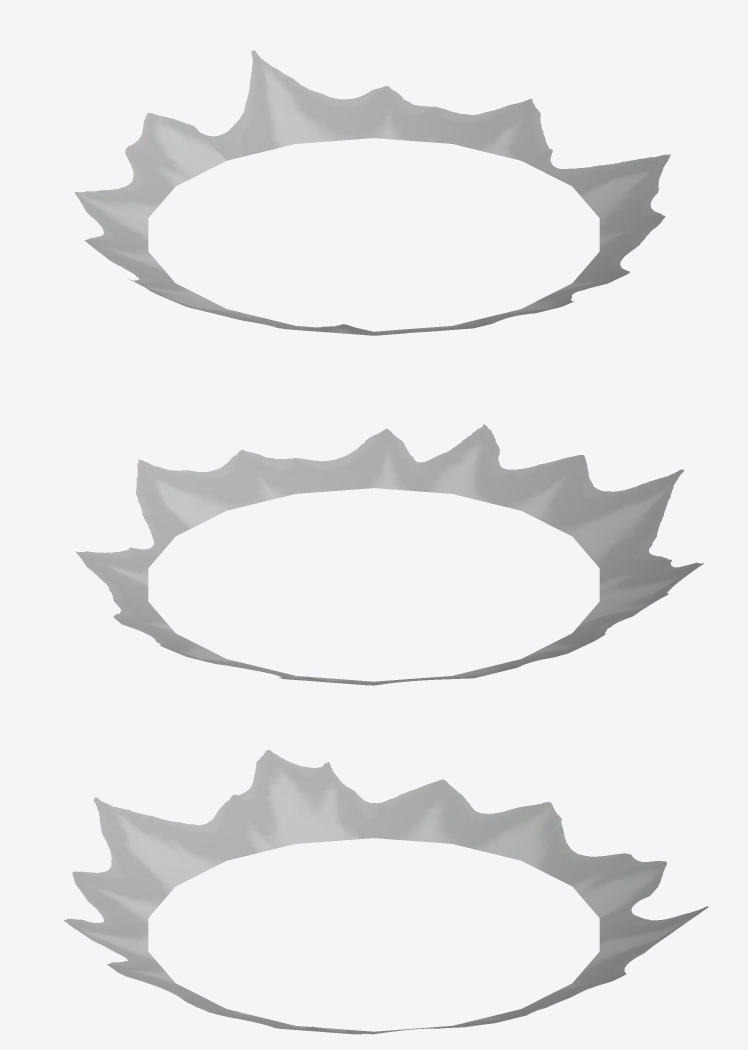
3 views of the same model, one above another, from view 1: azimuth 30°, elevation 25°; view 2: azimuth 150°, elevation 25°; view 3: azimuth 270°, elevation 25° (orthographic).
Parts seen in each view (by area): view 1: WK_Cylinder001; view 2: WK_Cylinder001; view 3: WK_Cylinder001.
Part boxes in pixels (bbox=[...]): WK_Cylinder001: bbox=[74, 50, 670, 335]; WK_Cylinder001: bbox=[75, 424, 703, 685]; WK_Cylinder001: bbox=[64, 749, 708, 1034].
Bounding box in the file's own units: 204 × 20.43 × 201.
